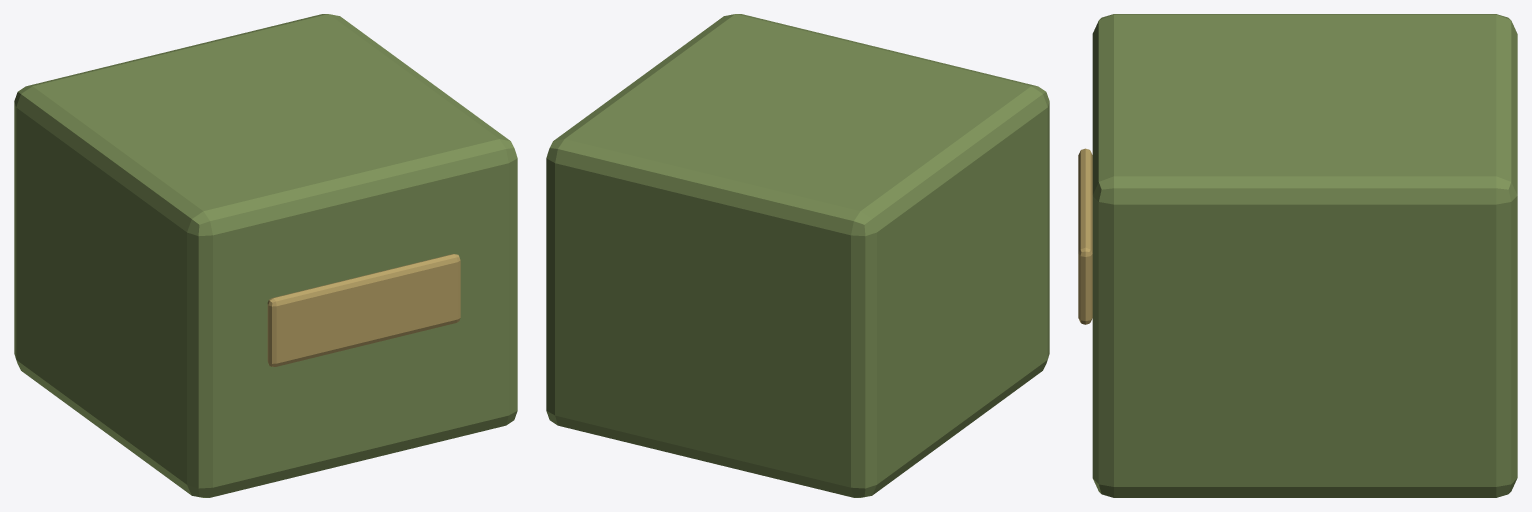
Rendered from crate.glb.
3 renders of one model, left to right at view 1: azimuth 30°, elevation 25°; view 2: azimuth 150°, elevation 25°; view 3: azimuth 270°, elevation 25°, orthographic. The views are drawn at different scales.
Visible parts, largest first — view 1: Ammo crate, Marking; view 2: Ammo crate; view 3: Ammo crate, Marking.
Boxes of the visible parts, x1,y1,x2,y2 form: Ammo crate: (14, 14, 517, 497); Marking: (267, 254, 460, 366); Ammo crate: (546, 14, 1049, 497); Ammo crate: (1092, 14, 1517, 497); Marking: (1078, 148, 1092, 324).
Size of the model in its own units: 0.6 by 0.5 by 0.62.
